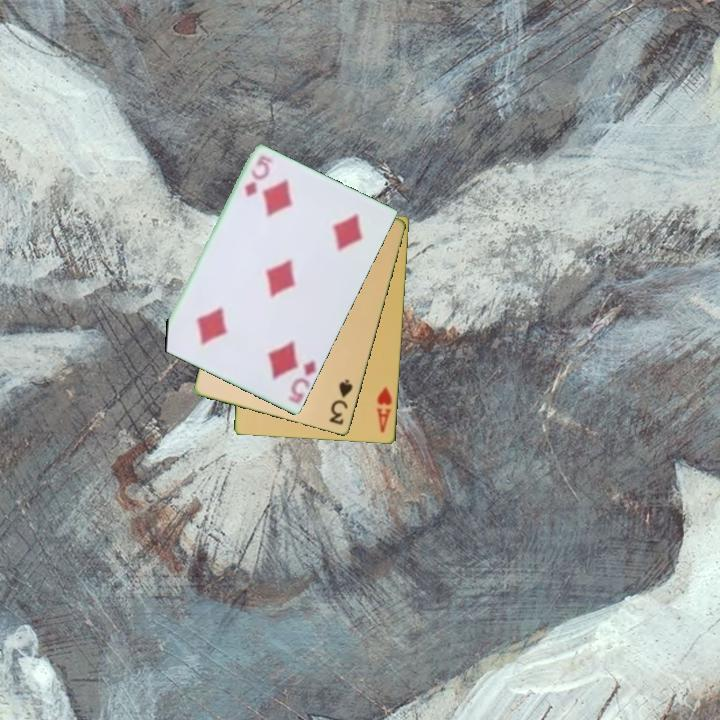3s: (326, 376, 356, 428)
5d: (241, 152, 273, 200), (287, 357, 319, 404)
Ah: (373, 384, 395, 436)
